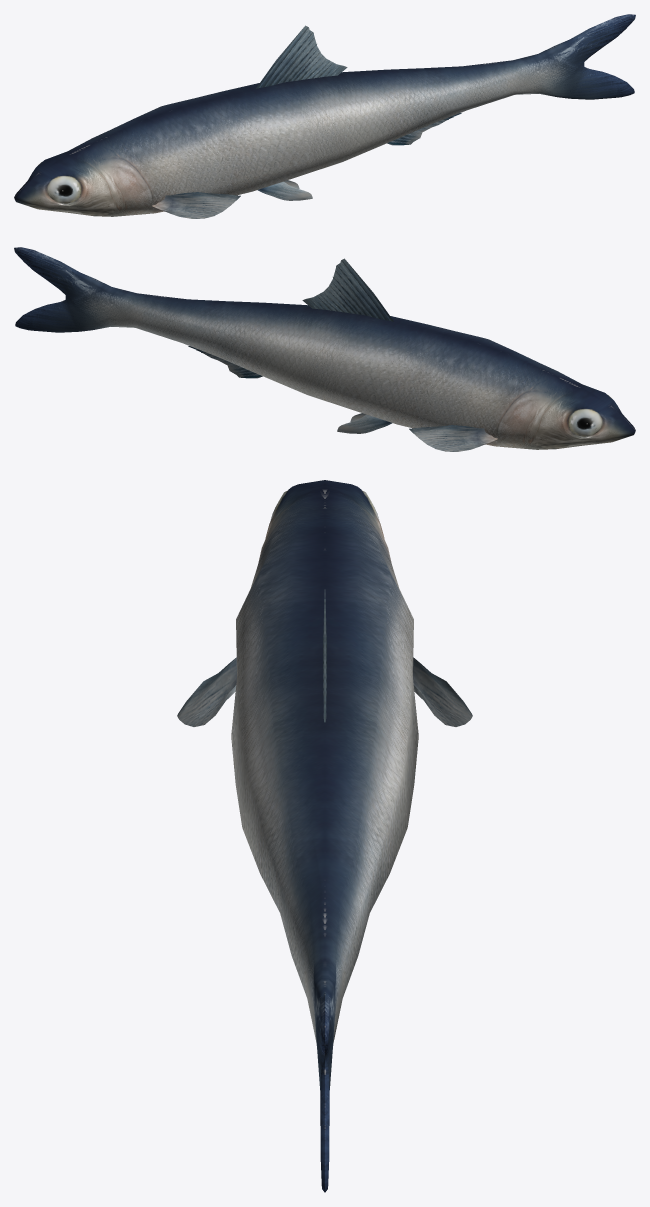
Rendered from Longoron.glb.
3 views of the same model, one above another, from view 1: azimuth 30°, elevation 25°; view 2: azimuth 150°, elevation 25°; view 3: azimuth 270°, elevation 25° (orthographic). The views are drawn at different scales.
Parts seen in each view (by area): view 1: Cube.001; view 2: Cube.001; view 3: Cube.001.
Part boxes in pixels (x1=…): Cube.001: x1=14, y1=14, x2=635, y2=218; Cube.001: x1=14, y1=247, x2=635, y2=451; Cube.001: x1=177, y1=480, x2=472, y2=1192.
Bounding box in the file's own units: 1.18 × 0.305 × 0.2425.
Materials: 2 (2 with a texture image).
